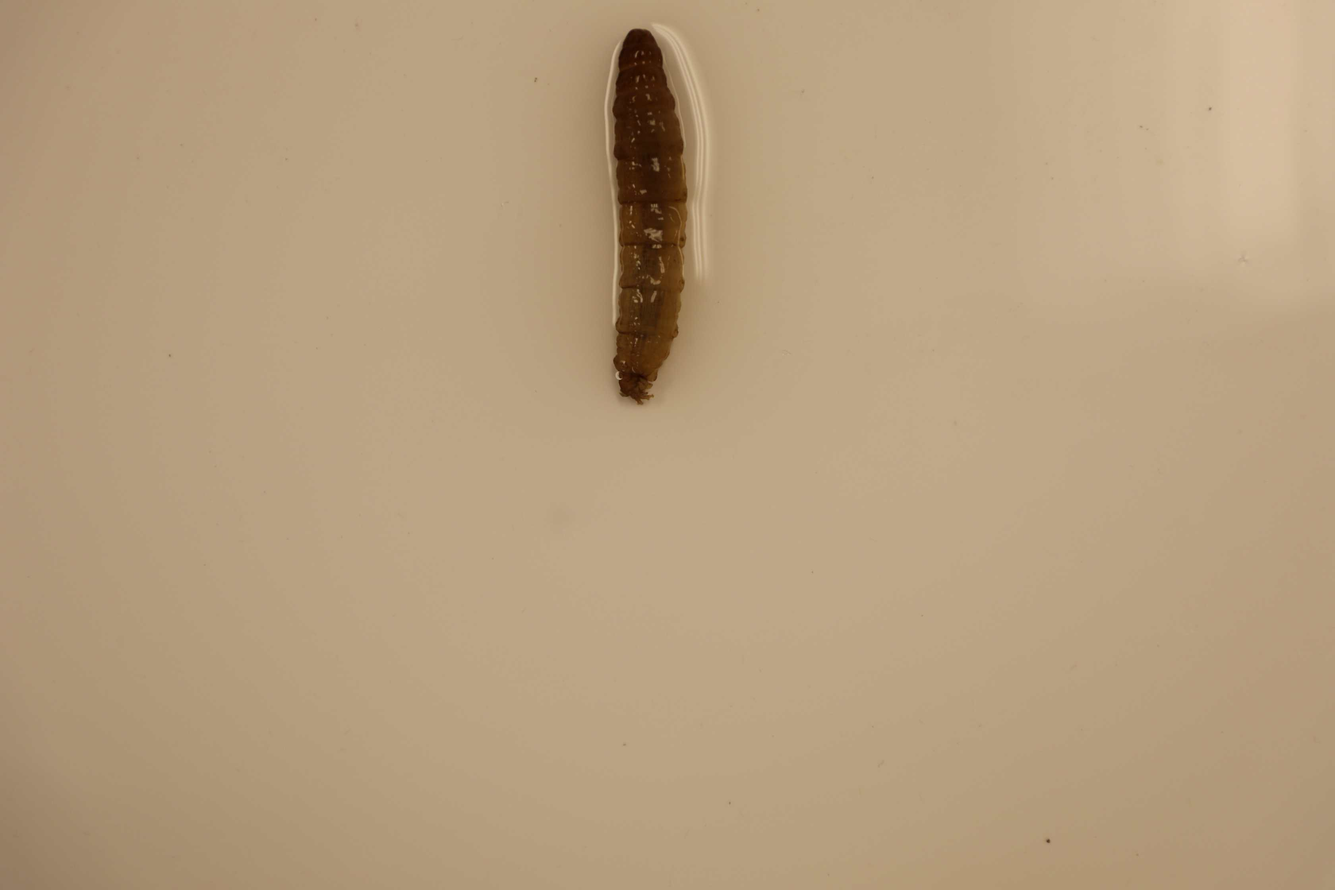Other: (604, 20, 685, 406)
